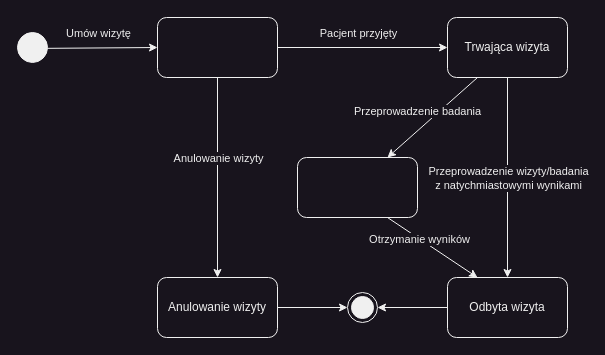
Some shapes in this 605 by 355 pixel diagram are drawn without their labels. Each missing label, with the centre of its shape:
Oczekująca na wyniki: the point at 357,187
Wizyta umówiona: the point at 217,47
